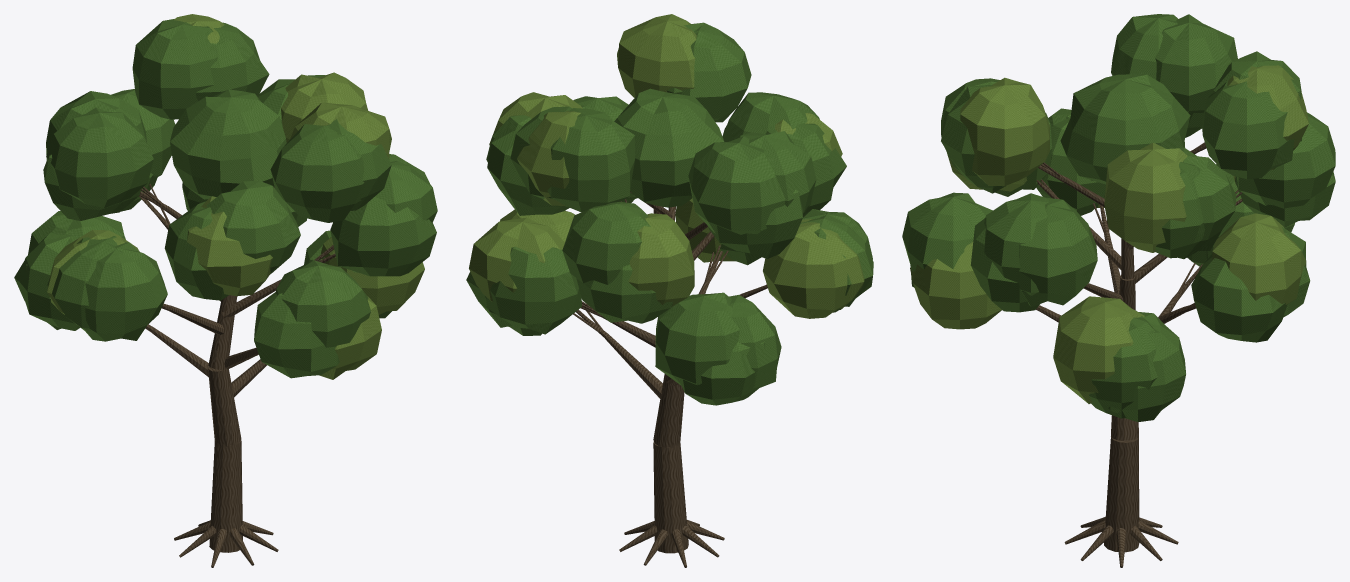
3 views of the same model, side by side, from view 1: azimuth 30°, elevation 25°; view 2: azimuth 150°, elevation 25°; view 3: azimuth 270°, elevation 25° (orthographic). The views are drawn at different scales.
Visible parts, largest first — view 1: broadleaf; view 2: broadleaf; view 3: broadleaf.
Part boxes in pixels (<box>): broadleaf: <box>14,14,437,567</box>; broadleaf: <box>466,14,873,567</box>; broadleaf: <box>902,14,1335,567</box>.
Size of the model in its own units: 10.7 by 13.08 by 10.4.
Materials: 3 (3 with a texture image).
